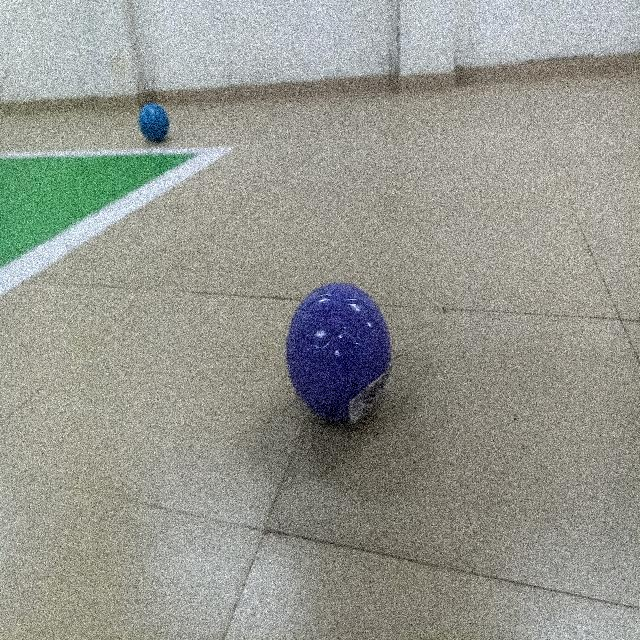blue_ball: (135, 100, 172, 151)
purple_ball: (278, 270, 398, 426)
